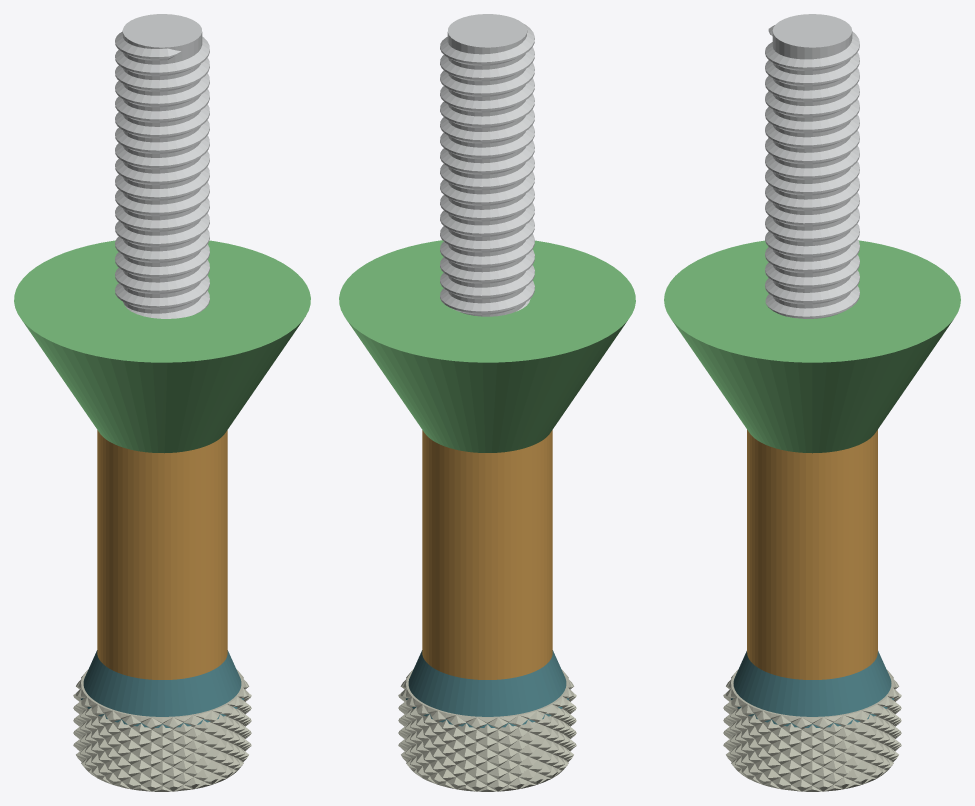
The model's file is cubic-tag-handle.glb.
The picture shows the model from 3 angles, left to right: view 1: azimuth 30°, elevation 25°; view 2: azimuth 150°, elevation 25°; view 3: azimuth 270°, elevation 25°; orthographic projection.
Visible parts, largest first — view 1: Mesh_Mesh_head_geo.001_lambert2SG.001; view 2: Mesh_Mesh_head_geo.001_lambert2SG.001; view 3: Mesh_Mesh_head_geo.001_lambert2SG.001.
Boxes of the visible parts, x1,y1,x2,y2 form: Mesh_Mesh_head_geo.001_lambert2SG.001: (14, 14, 310, 791); Mesh_Mesh_head_geo.001_lambert2SG.001: (339, 14, 635, 791); Mesh_Mesh_head_geo.001_lambert2SG.001: (664, 14, 960, 791).
Bounding box in the file's own units: 50 × 135 × 50.
